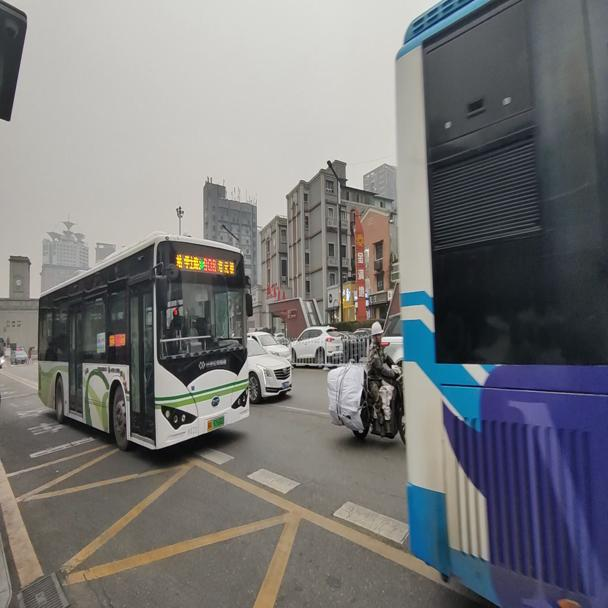bus: (392, 1, 606, 602), (34, 234, 252, 459)
screen: (203, 256, 217, 273)
